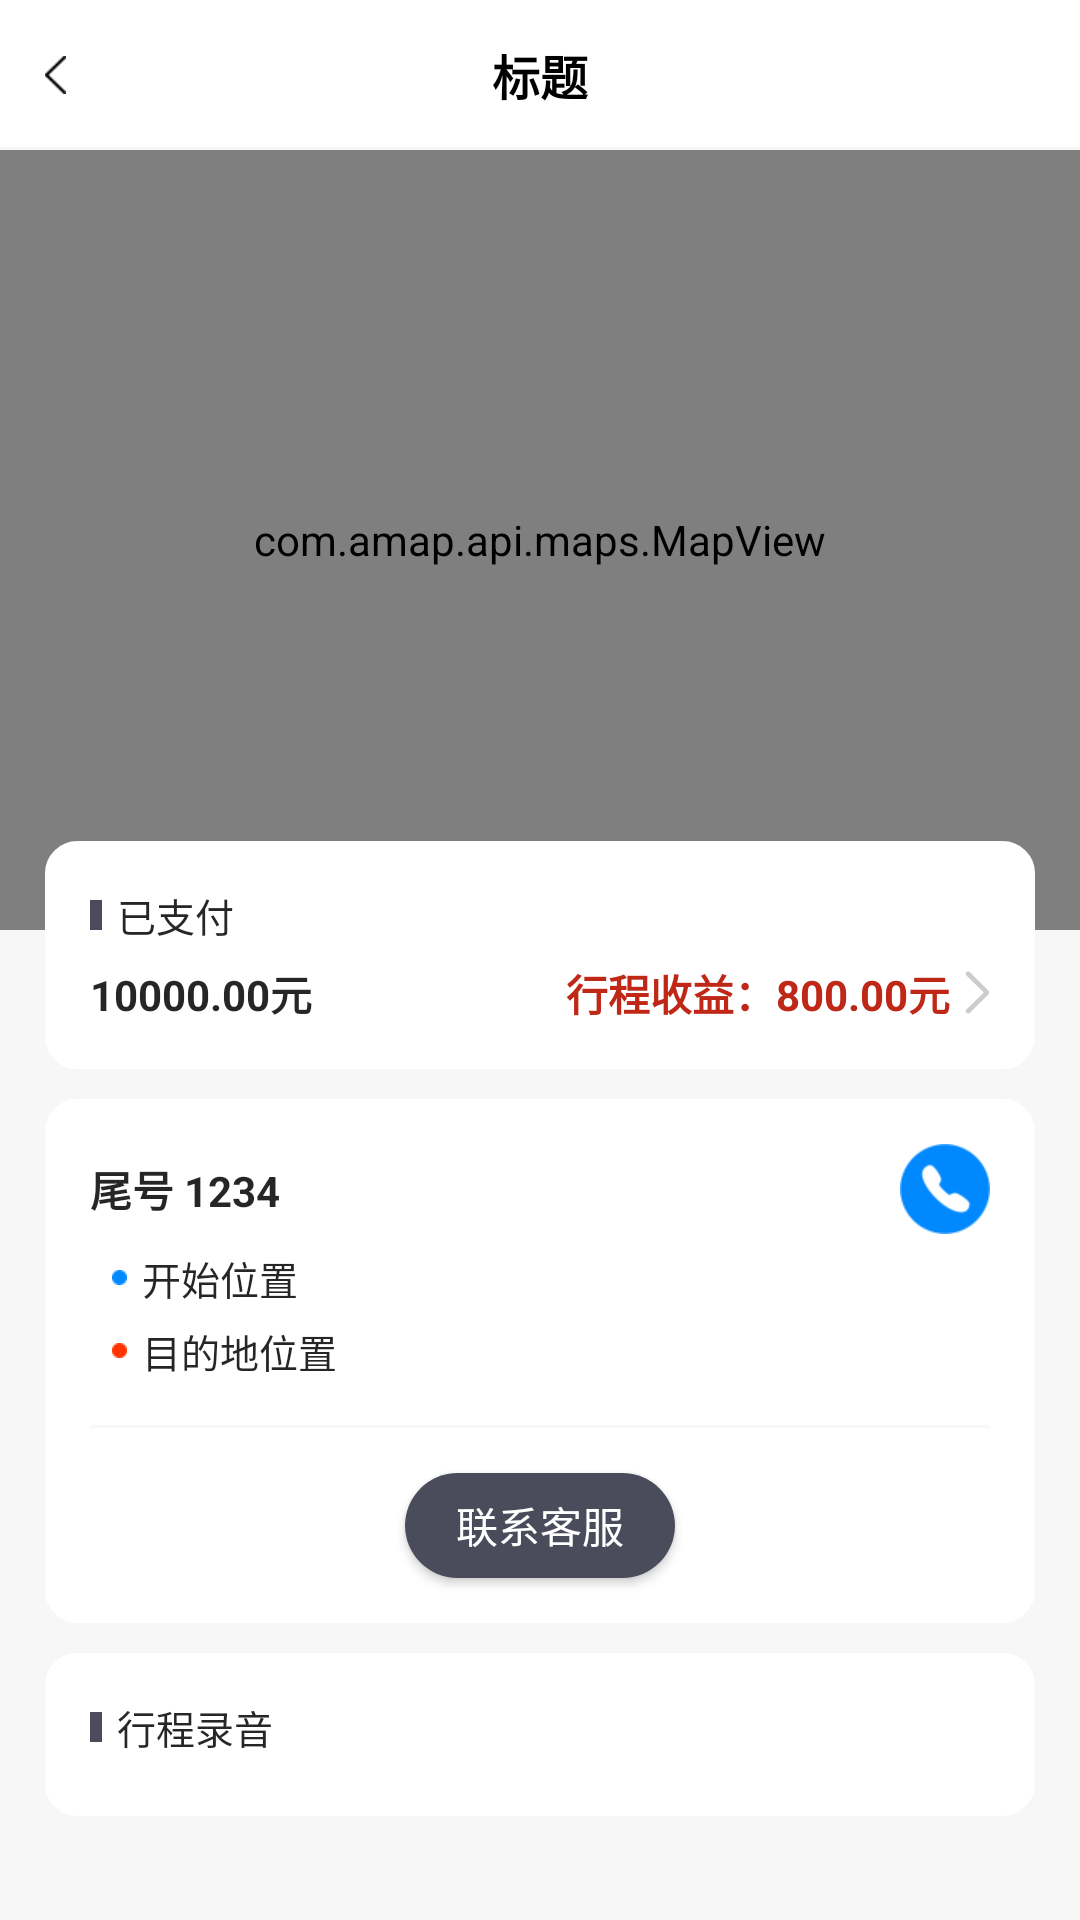

Icons on this 1080x1920 Android screen, each with its box as (x1, y1, x2, y2):
back: (45, 56, 66, 94)
